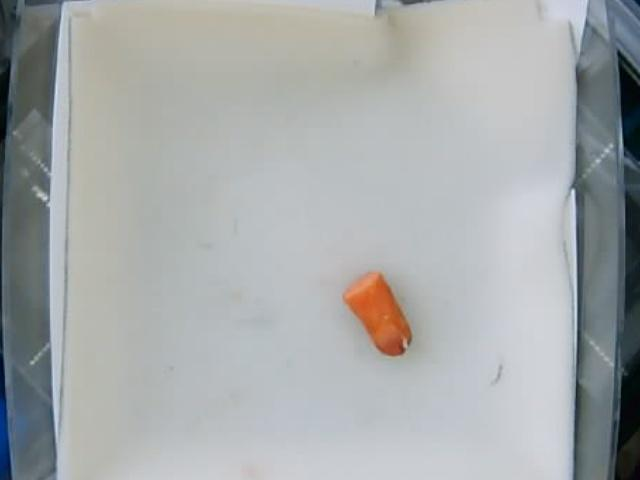Carrot: (341, 275, 411, 360)
